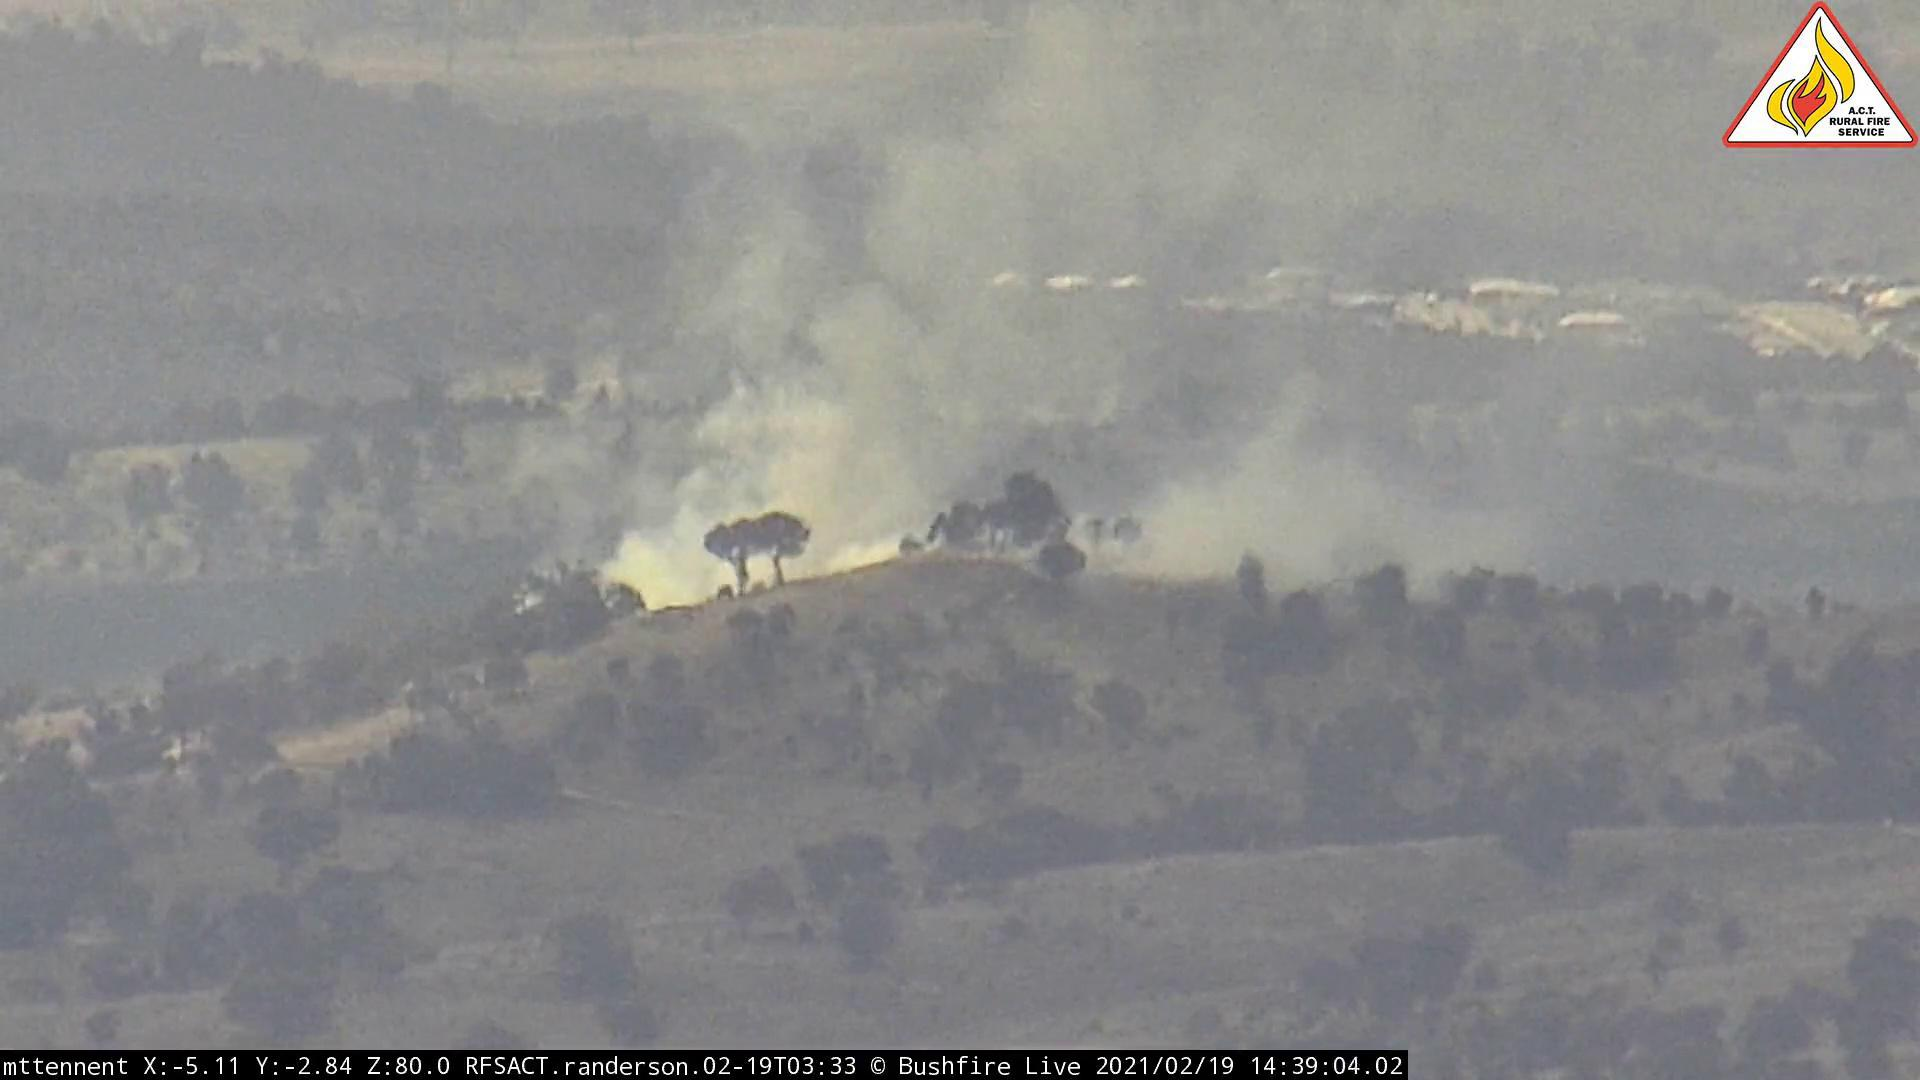Smoke: (506, 3, 1586, 640)
